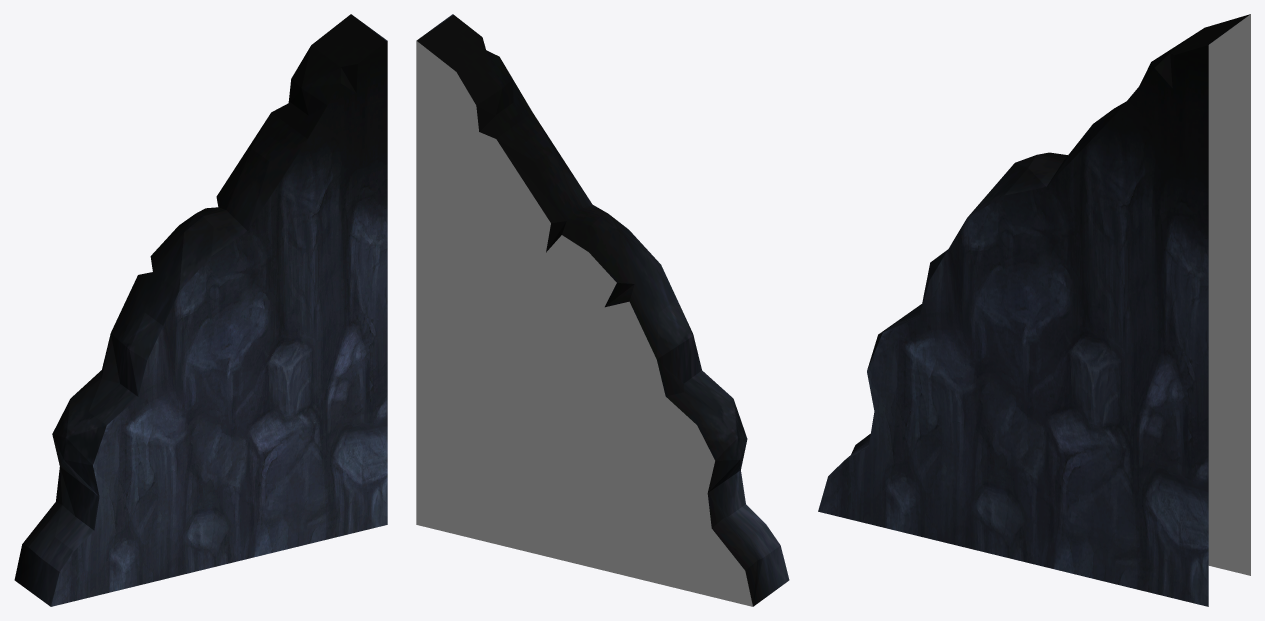
File: mine_fade_transition_08.fbx
The picture shows the model from 3 angles, left to right: view 1: azimuth 30°, elevation 25°; view 2: azimuth 150°, elevation 25°; view 3: azimuth 330°, elevation 25°; orthographic projection. The views are drawn at different scales.
Parts seen in each view (by area): view 1: mine_fade_transition_08-0; view 2: mine_fade_transition_08-0; view 3: mine_fade_transition_08-0.
Boxes of the visible parts, x1=… form: mine_fade_transition_08-0: x1=14, y1=14, x2=387, y2=606; mine_fade_transition_08-0: x1=416, y1=14, x2=789, y2=606; mine_fade_transition_08-0: x1=818, y1=14, x2=1250, y2=606.
Bounding box in the file's own units: 4 × 5.5 × 0.75.
